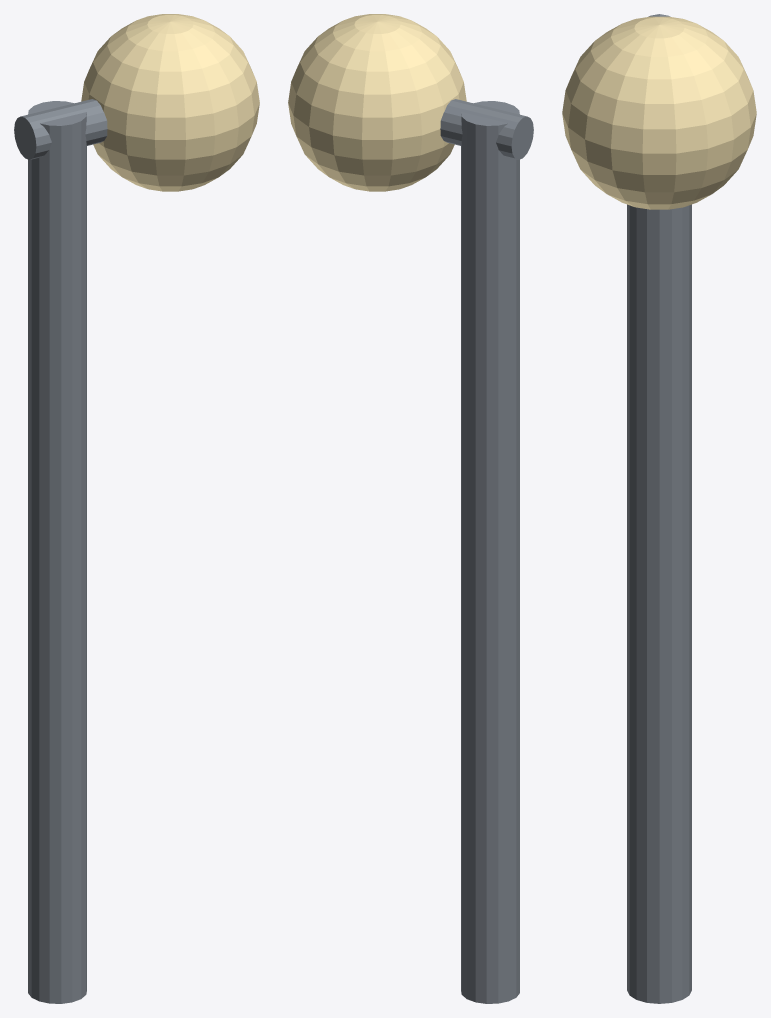
File: lamp.glb
The picture shows the model from 3 angles, left to right: view 1: azimuth 30°, elevation 25°; view 2: azimuth 150°, elevation 25°; view 3: azimuth 270°, elevation 25°; orthographic projection. The views are drawn at different scales.
Visible parts, largest first — view 1: LpPole, LampHead, LpArm; view 2: LpPole, LampHead, LpArm; view 3: LpPole, LampHead.
Part boxes in pixels (<box>): LpPole: <box>28,101,86,1003</box>; LampHead: <box>81,14,259,191</box>; LpArm: <box>14,99,107,159</box>; LpPole: <box>461,101,519,1003</box>; LampHead: <box>288,14,466,191</box>; LpArm: <box>440,99,533,159</box>; LpPole: <box>627,204,691,1003</box>; LampHead: <box>562,16,756,209</box>.
Size of the model in its own units: 0.6864 by 2.79 by 0.48.
